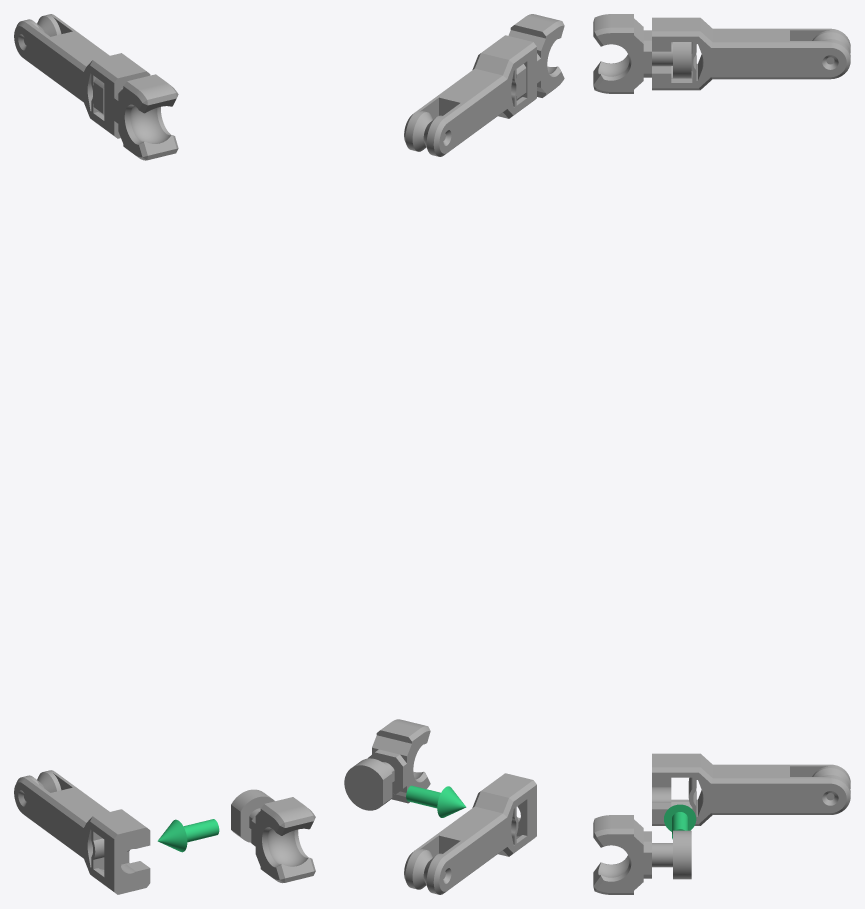
The model's file is upper_leg_a.glb.
The picture shows the model from 3 angles, left to right: view 1: azimuth 30°, elevation 25°; view 2: azimuth 150°, elevation 25°; view 3: azimuth 270°, elevation 25°; orthographic projection. The views are drawn at different scales.
Visible parts, largest first — view 1: Body1.003, Body1.001, Body1.002, Body1, Arrow; view 2: Body1.003, Body1.001, Body1.002, Body1, Arrow; view 3: Body1.001, Body1.003, Body1.002, Body1, Arrow.
Boxes of the visible parts, x1=… form: Body1.003: x1=14, y1=770, x2=150, y2=894; Body1.001: x1=14, y1=14, x2=150, y2=138; Body1.002: x1=231, y1=789, x2=315, y2=883; Body1: x1=93, y1=74, x2=178, y2=160; Arrow: x1=157, y1=819, x2=219, y2=852; Body1.003: x1=404, y1=773, x2=536, y2=894; Body1.001: x1=404, y1=35, x2=536, y2=156; Body1.002: x1=344, y1=719, x2=430, y2=810; Body1: x1=508, y1=14, x2=564, y2=99; Arrow: x1=406, y1=785, x2=466, y2=817; Body1.001: x1=652, y1=17, x2=850, y2=90; Body1.003: x1=652, y1=753, x2=850, y2=825; Body1.002: x1=593, y1=815, x2=691, y2=894; Body1: x1=593, y1=14, x2=691, y2=93; Arrow: x1=664, y1=804, x2=696, y2=839.
Size of the model in its own units: 24.5 by 109 by 31.72.
